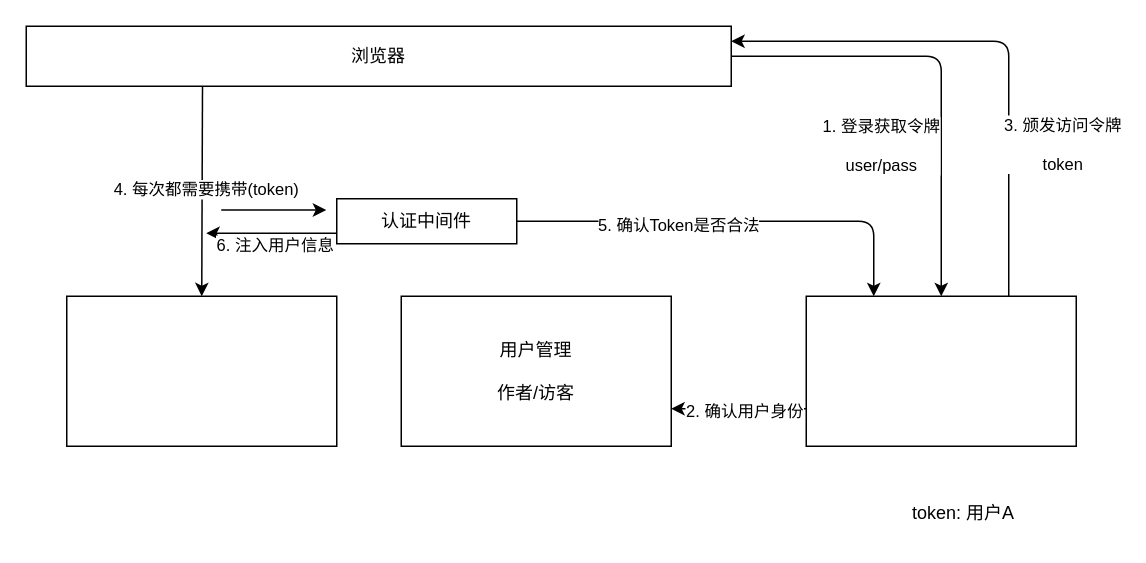
Image size: 1146x563. Some labels were removed from this diagram. The box of each missing label's shape, as (x1, y1, x2, y2) in pixels:
Token管理 用户身份令牌: (805, 295, 1076, 446)
博客管理(业务功能): (65, 295, 337, 446)
